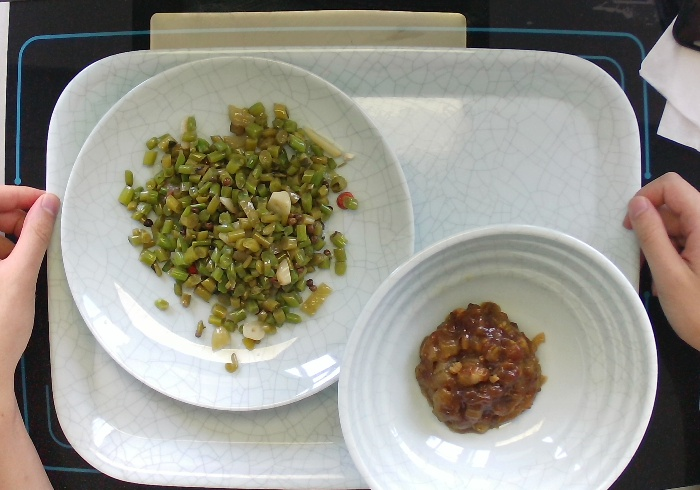JYsf-Da_Tang_Wan: (338, 209, 661, 490)
JYsf-Da_Yuan_Pan: (59, 49, 418, 418)
